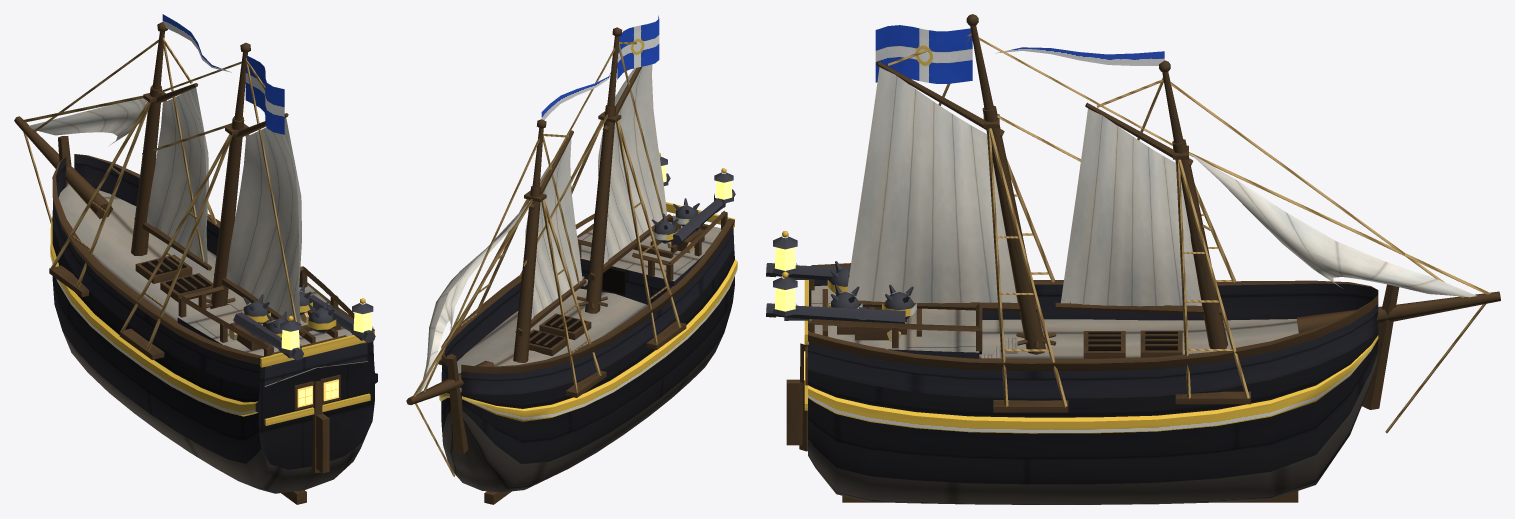
File: enemy_runner.glb
The picture shows the model from 3 angles, left to right: view 1: azimuth 30°, elevation 25°; view 2: azimuth 150°, elevation 25°; view 3: azimuth 270°, elevation 25°; orthographic projection. The views are drawn at different scales.
Visible parts, largest first — view 1: Hull, Rigging, Sail1_0, Sail0_0, Jib, Flag, Guns0; view 2: Hull, Rigging, Sail1_0, Sail0_0, Flag, Jib, Guns0; view 3: Hull, Sail1_0, Rigging, Sail0_0, Jib, Flag, Guns0.
Boxes of the visible parts, left/top/right/bottom form: Hull: left=49, top=136, right=377, bottom=504; Rigging: left=14, top=22, right=305, bottom=351; Sail1_0: left=226, top=117, right=301, bottom=323; Sail0_0: left=146, top=87, right=208, bottom=263; Jib: left=29, top=98, right=146, bottom=145; Flag: left=162, top=14, right=284, bottom=134; Guns0: left=229, top=295, right=375, bottom=360; Hull: left=438, top=152, right=737, bottom=504; Rigging: left=406, top=27, right=681, bottom=476; Sail1_0: left=598, top=64, right=667, bottom=263; Sail0_0: left=525, top=138, right=582, bottom=319; Flag: left=541, top=15, right=659, bottom=120; Jib: left=418, top=200, right=530, bottom=393; Guns0: left=663, top=173, right=735, bottom=253; Hull: left=772, top=231, right=1399, bottom=504; Sail1_0: left=847, top=67, right=1017, bottom=303; Rigging: left=859, top=14, right=1500, bottom=433; Sail0_0: left=1060, top=108, right=1201, bottom=306; Jib: left=1190, top=153, right=1476, bottom=297; Flag: left=875, top=25, right=1164, bottom=83; Guns0: left=766, top=263, right=905, bottom=341.
Bounding box in the file's own units: 0.8442 × 1.99 × 2.73.
Materials: 8 (8 with a texture image).
